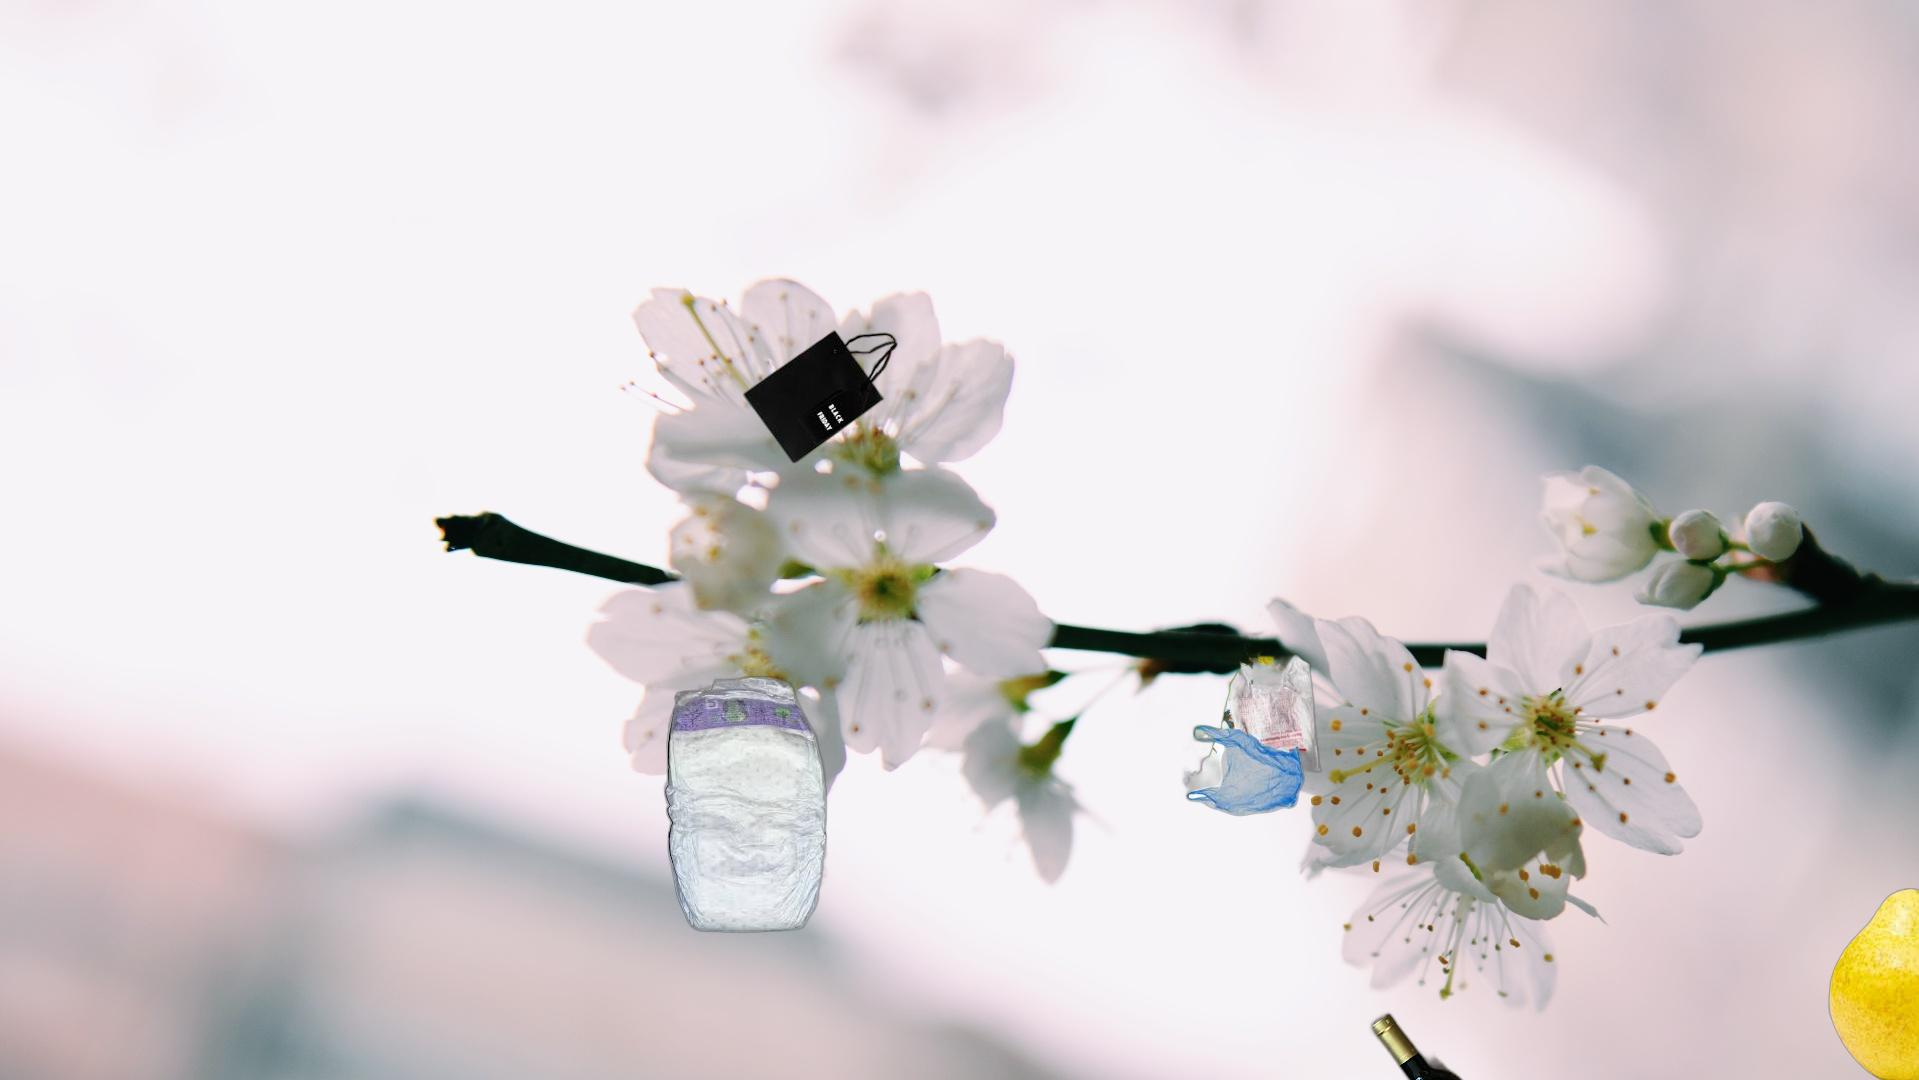biological: (1825, 845, 1919, 1080)
glass: (1368, 1007, 1555, 1080)
paper-bag: (739, 328, 899, 465)
plastic-bag: (1137, 611, 1323, 819)
trash: (659, 673, 829, 936)
